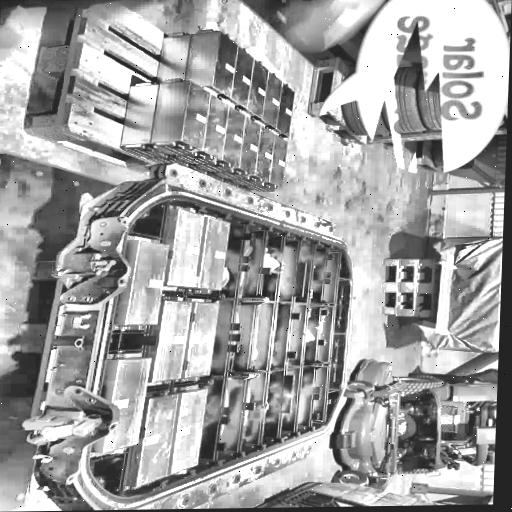battery_module: (101, 358, 149, 453), (122, 240, 170, 325), (137, 393, 179, 488), (150, 301, 193, 383), (169, 389, 208, 475), (167, 210, 204, 287), (183, 302, 217, 379), (197, 218, 228, 290)
